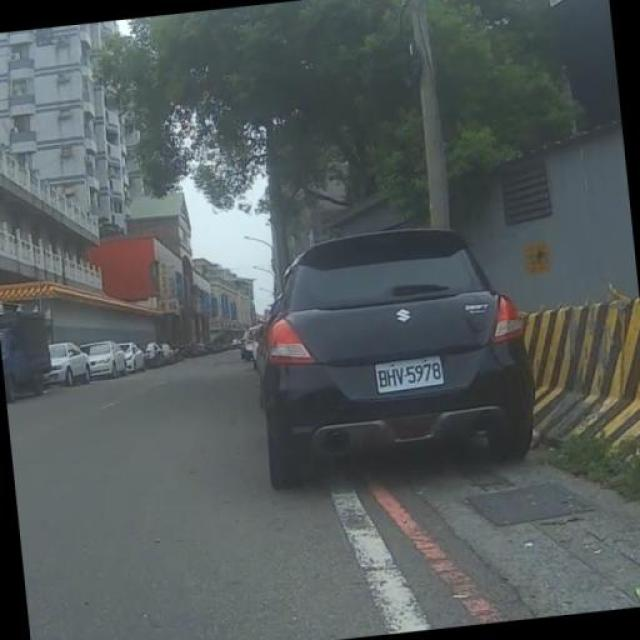Legalparking: (225, 215, 565, 520)
